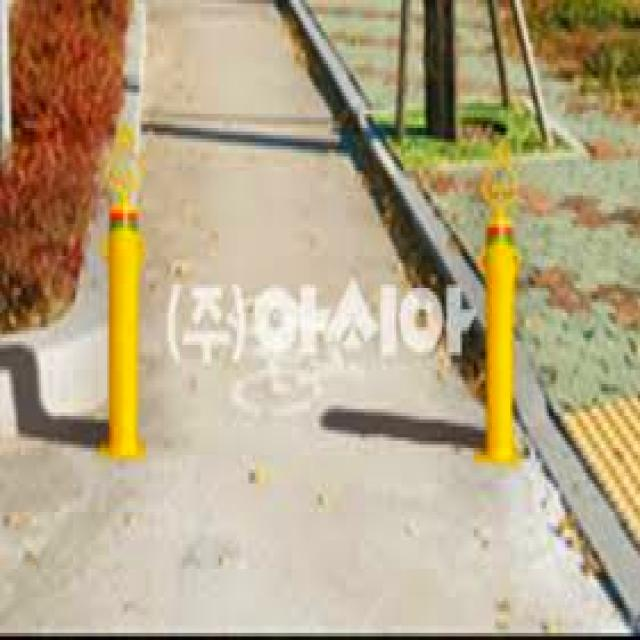bollard: (479, 181, 526, 480), (102, 177, 147, 472)
